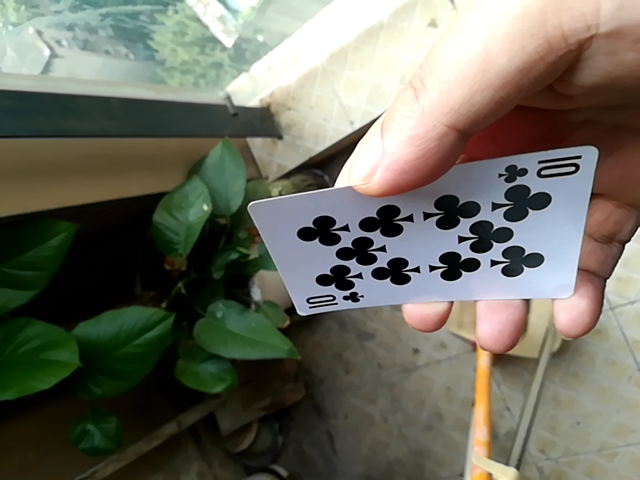mh 10: (253, 161, 599, 313)
